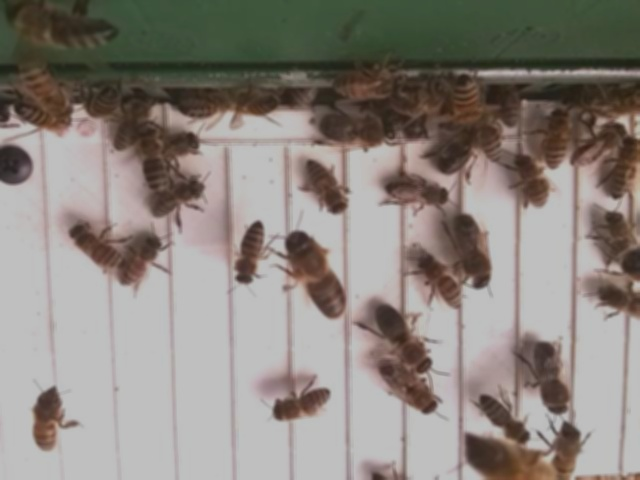Drone: (286, 232, 349, 322), (375, 304, 435, 376), (449, 214, 494, 294), (379, 361, 440, 417), (530, 340, 572, 418), (316, 110, 398, 148), (437, 122, 488, 176)
Worker: (303, 156, 350, 219), (478, 395, 532, 448), (567, 124, 627, 170), (69, 224, 124, 272), (148, 177, 208, 220), (114, 237, 163, 289), (110, 95, 151, 155), (268, 387, 334, 424), (234, 221, 270, 287), (136, 125, 168, 198), (378, 178, 453, 209), (30, 392, 66, 455), (514, 152, 550, 213), (608, 136, 640, 203), (543, 109, 573, 172), (12, 100, 70, 132), (552, 424, 582, 480)
